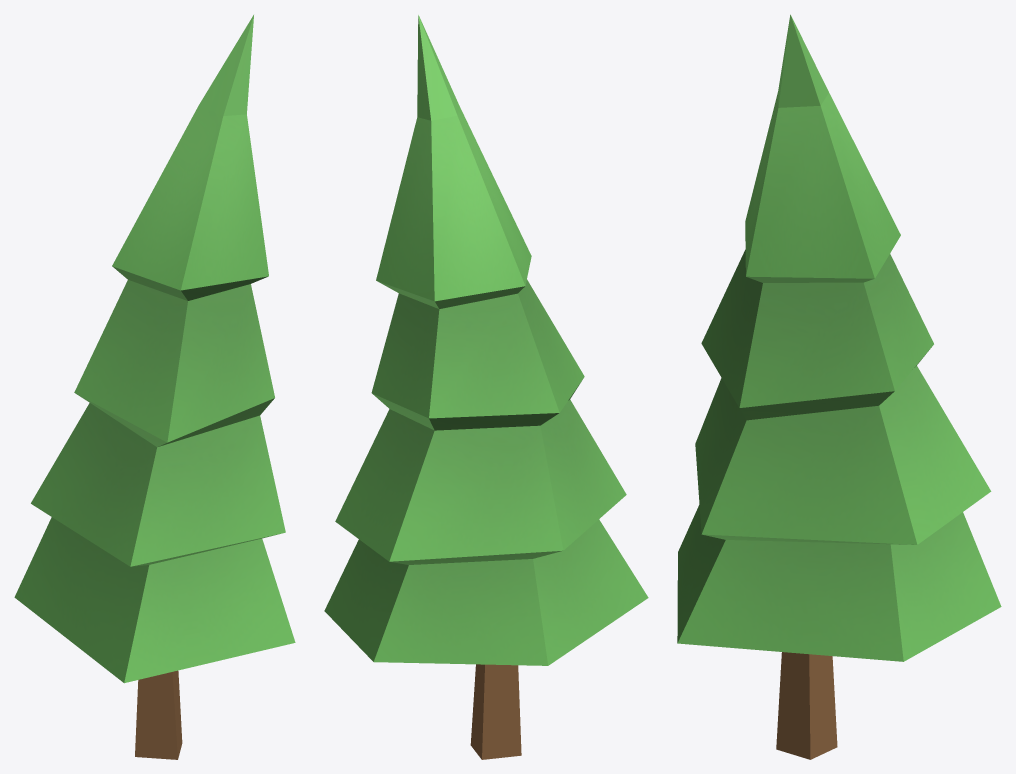
Rendered from Fir_Tree_m_11.fbx.
The picture shows the model from 3 angles, left to right: view 1: azimuth 30°, elevation 25°; view 2: azimuth 150°, elevation 25°; view 3: azimuth 270°, elevation 25°; orthographic projection. The views are drawn at different scales.
Visible parts, largest first — view 1: Fir_Tree_m_11; view 2: Fir_Tree_m_11; view 3: Fir_Tree_m_11.
Part boxes in pixels (x1,y1,x2,y2): Fir_Tree_m_11: (14,15,295,759); Fir_Tree_m_11: (324,15,648,759); Fir_Tree_m_11: (677,14,1001,759).
Bounding box in the file's own units: 147 × 444 × 167.
